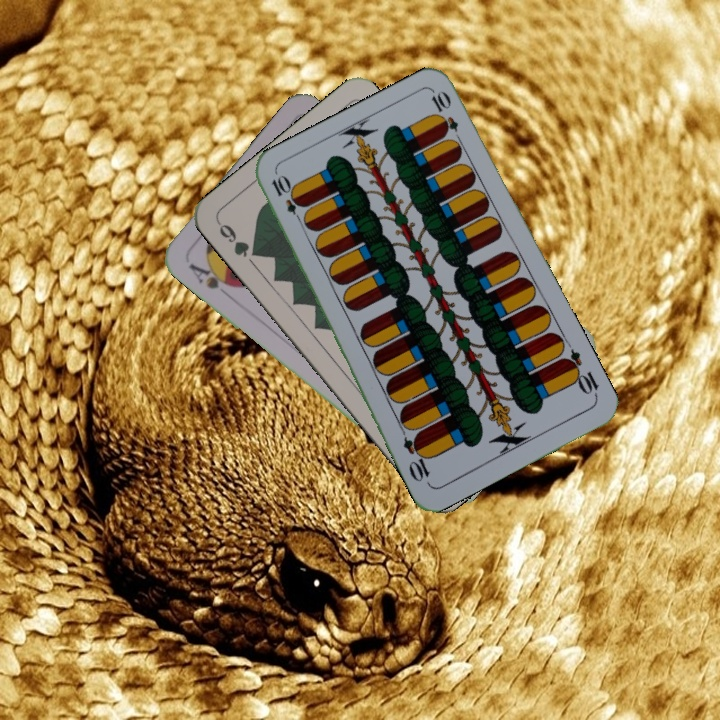E10: (558, 346, 601, 400), (267, 171, 307, 227)
G9: (213, 218, 263, 260)
SA: (184, 258, 238, 292)
